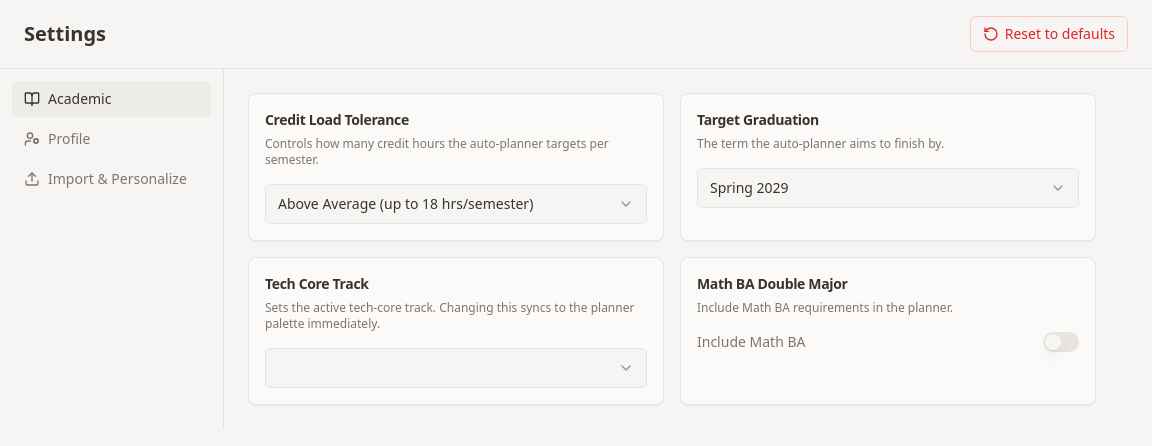
Test: SettingsPage TOC navigation › reaches the Import & Personalize panel via the TOC
This screenshot has width=1152, height=446.
Click the tab "Import & Personalize" at (112,179), box [12,161,211,197]
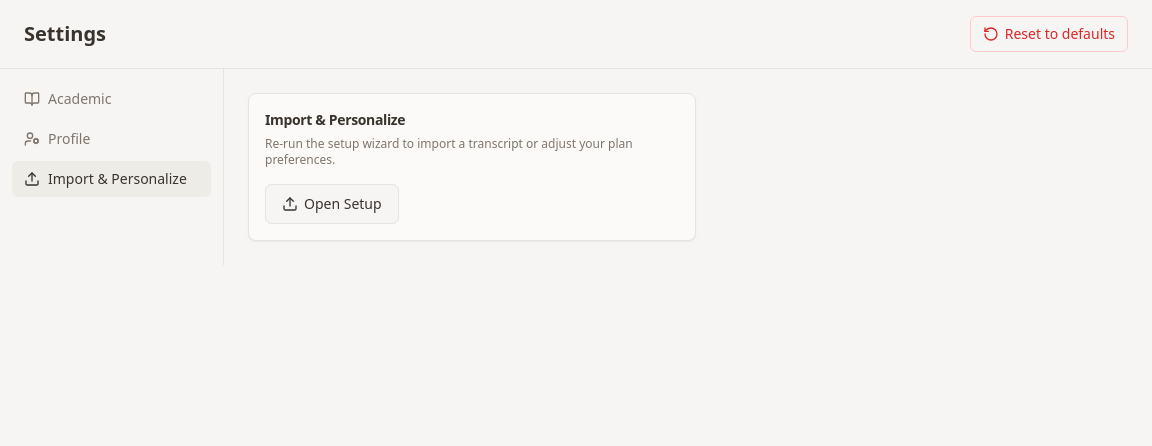
Check: the button "Open Setup" is shown, box [265,184,399,224]
